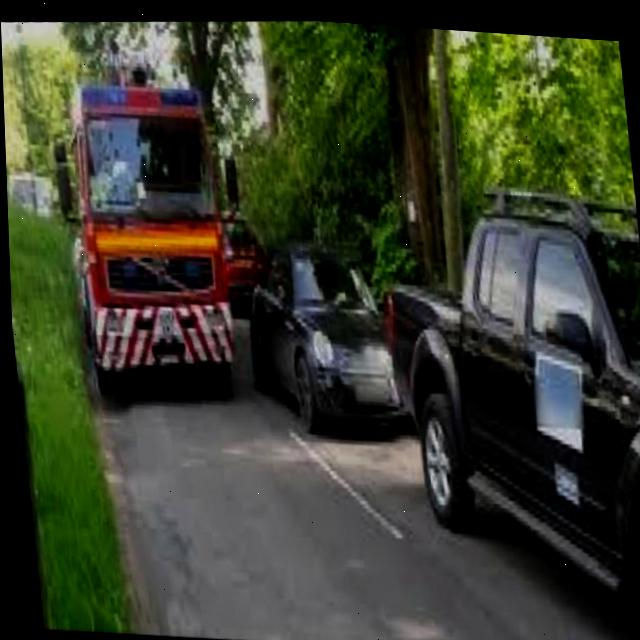emergency: (55, 70, 242, 409)
